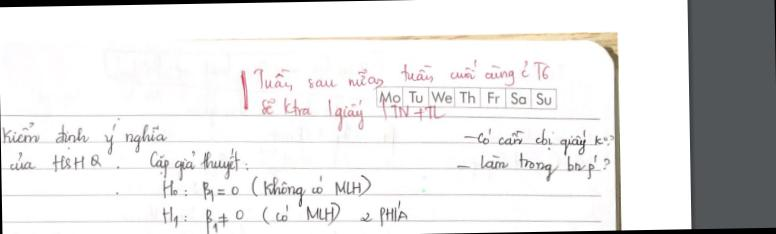text: (249, 56, 552, 92), (159, 198, 409, 234), (160, 170, 374, 212), (258, 93, 447, 135), (0, 117, 169, 157), (453, 149, 612, 184), (462, 124, 615, 158), (376, 86, 554, 110), (146, 146, 249, 181), (6, 150, 104, 174)
